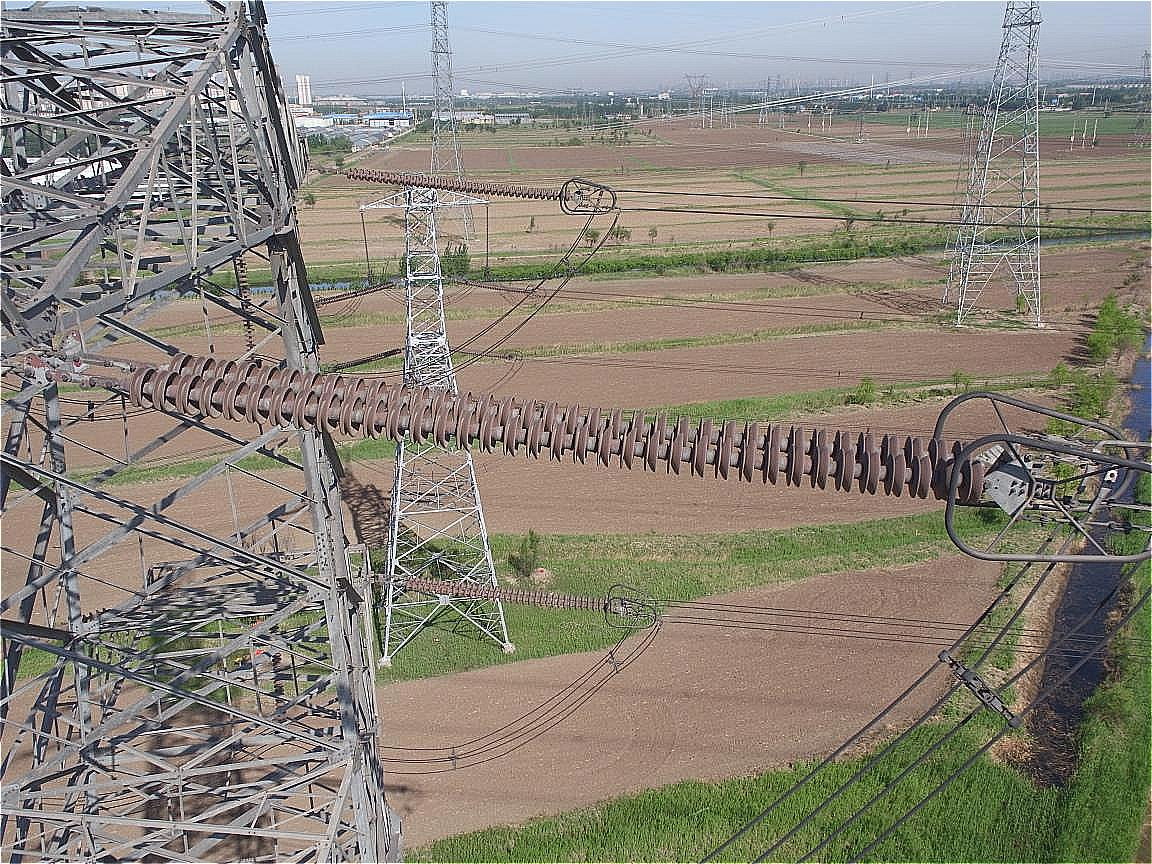insultor1: (341, 160, 579, 206), (400, 569, 612, 615)
insultor2: (120, 344, 1006, 524)
